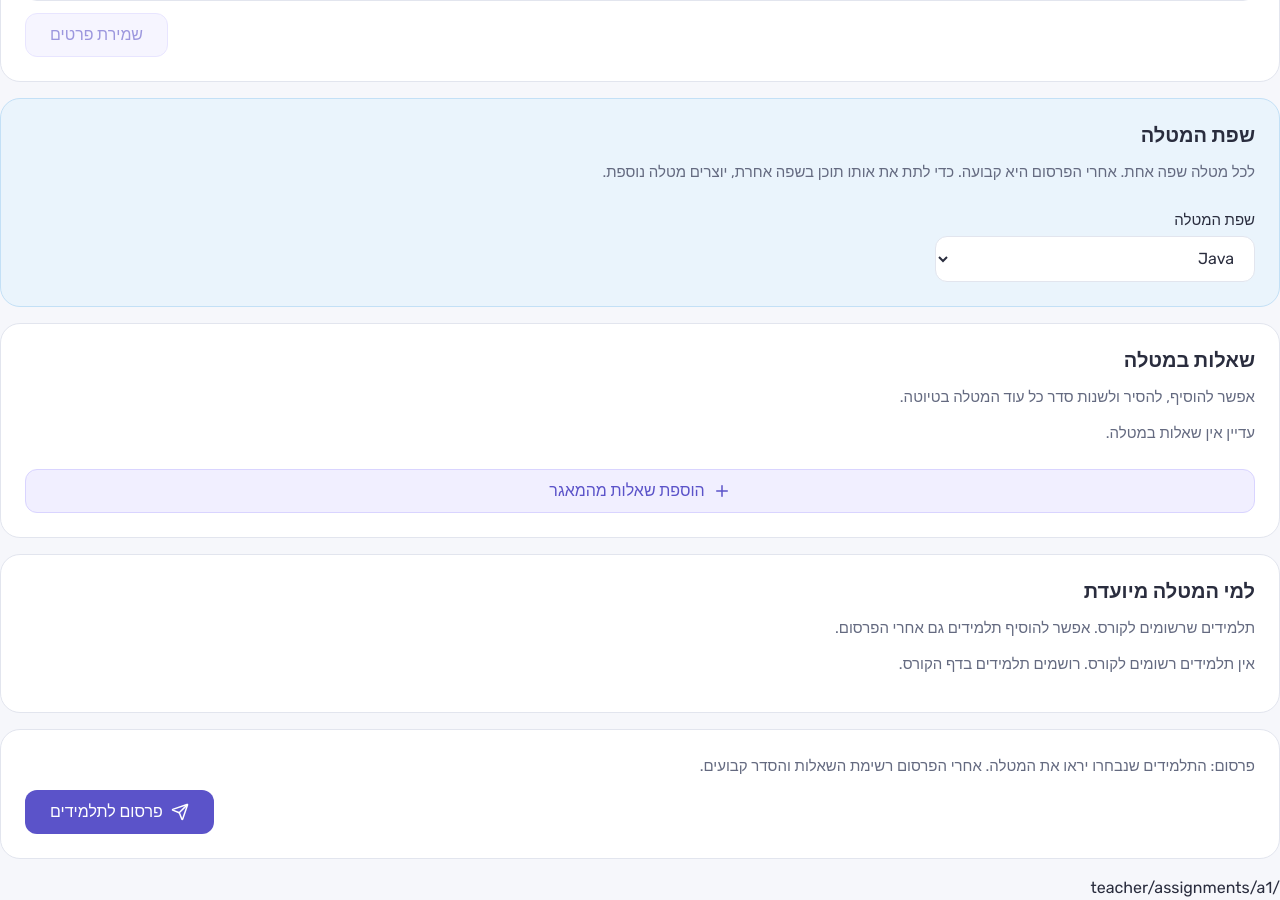
Test: UX FIX 2 — publish feedback › network error (thrown) and server error keep the dialog open with distinct messages
(page scrolled)
Click the button "פרסום לתלמידים" at (119, 812), box [25, 790, 214, 834]
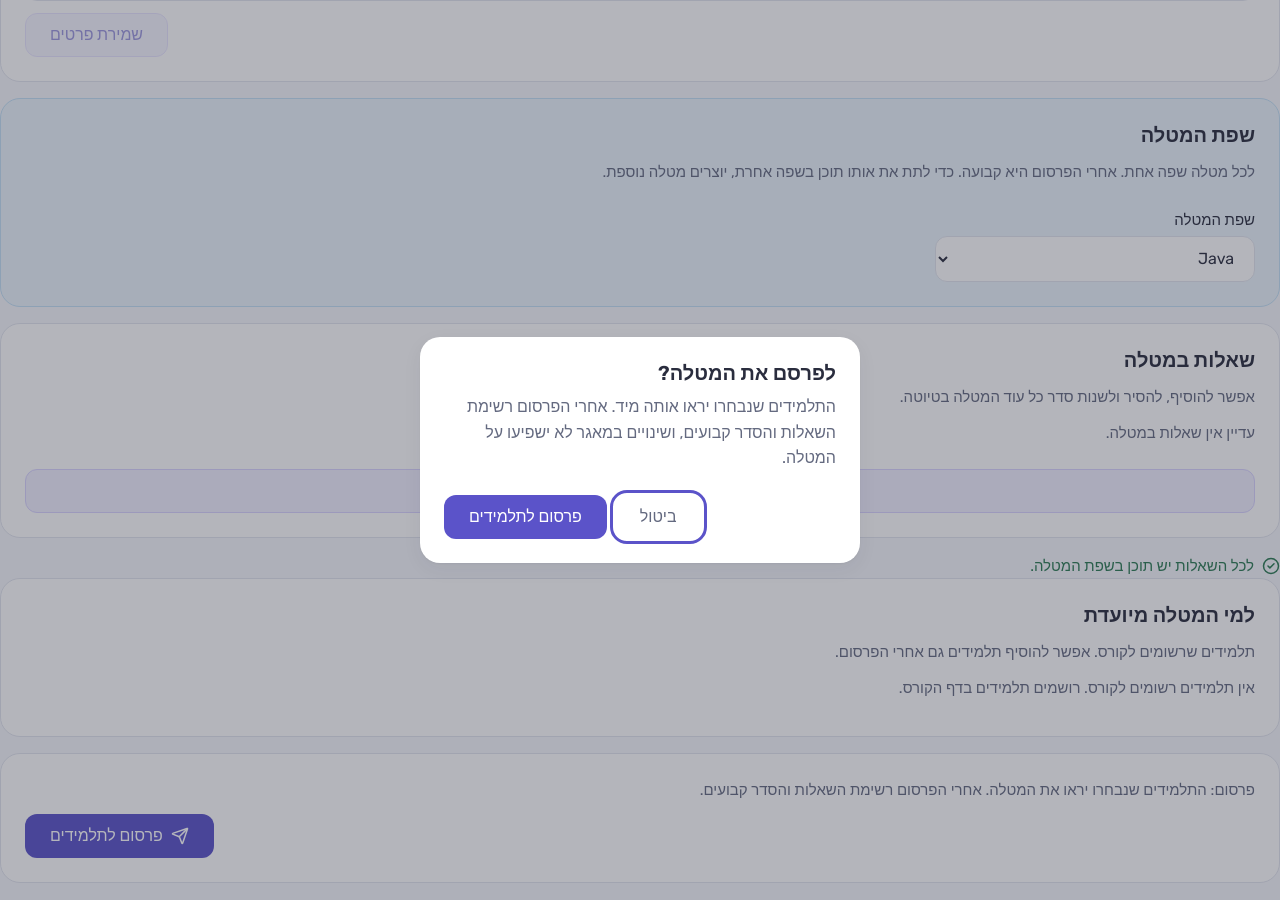
Click the button "פרסום לתלמידים" at (525, 517), box [444, 495, 607, 539]
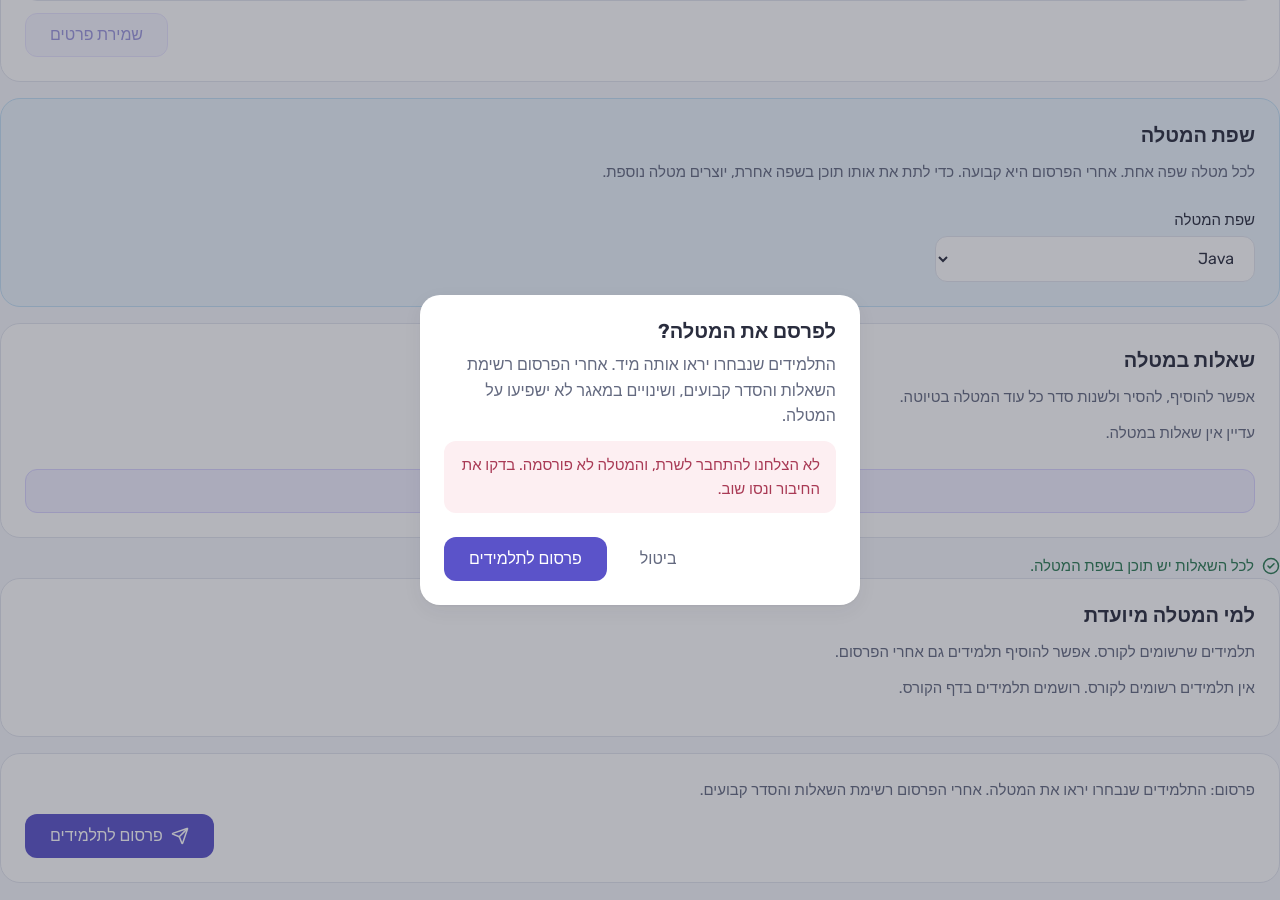
Expected: the message "לא הצלחנו להתחבר לשרת, והמטלה לא פורסמה. בדקו את החיבור ונסו שוב." is shown, [444, 441, 836, 513]
Click the button "פרסום לתלמידים" at (525, 559), box [444, 537, 607, 581]
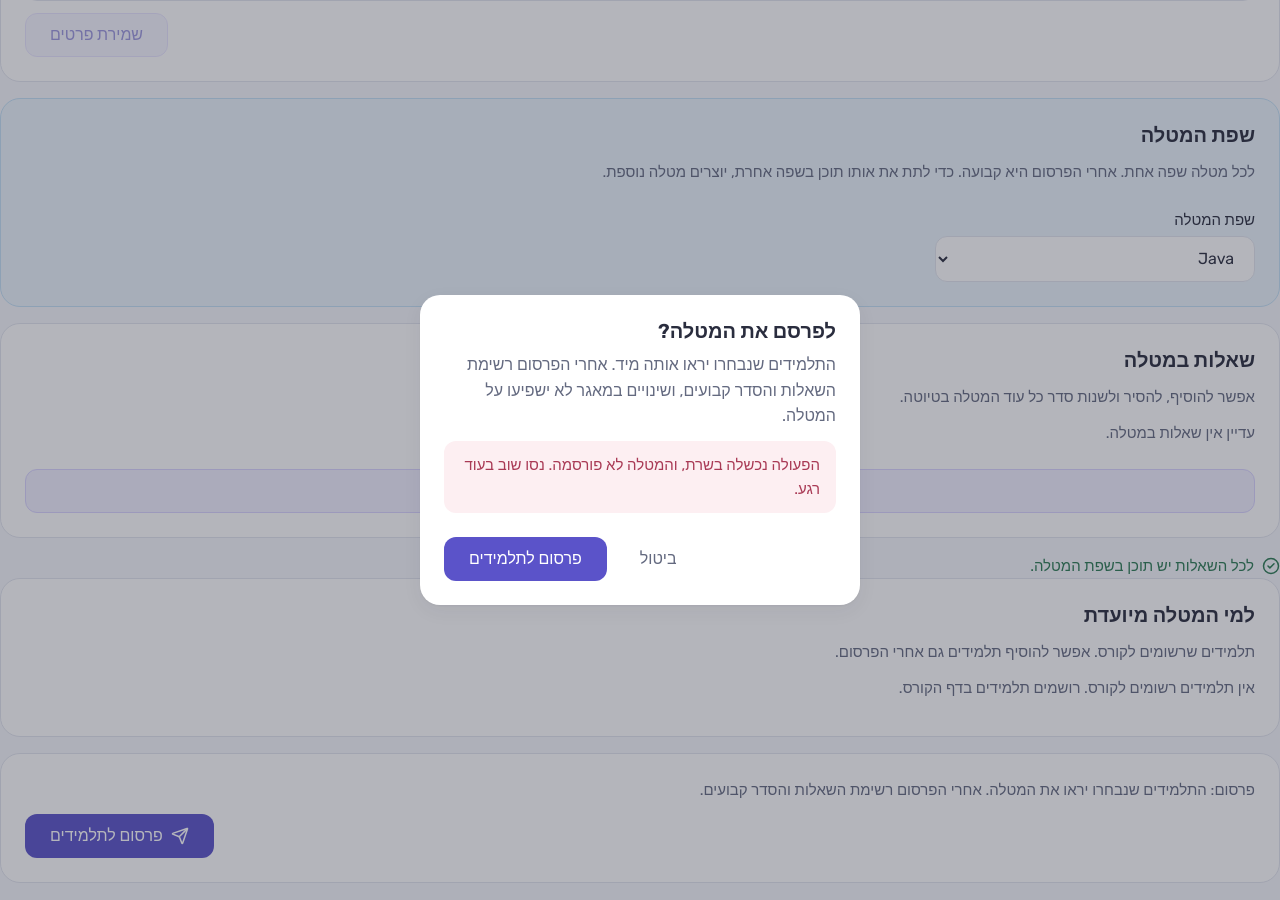
Expected: the message "הפעולה נכשלה בשרת, והמטלה לא פורסמה. נסו שוב בעוד רגע." is shown, [444, 441, 836, 513]
